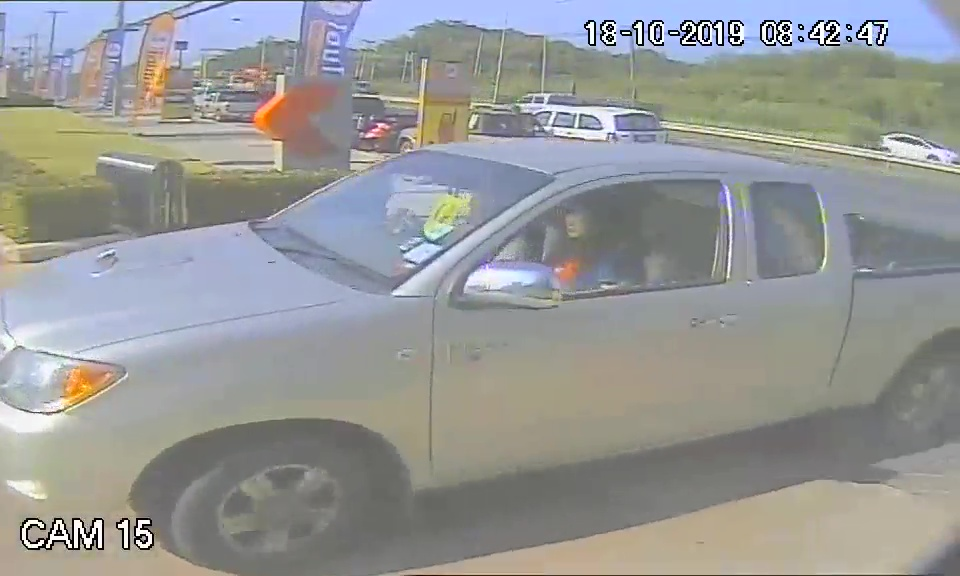pickup: (5, 135, 938, 511)
